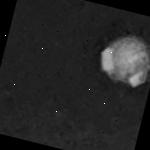colony: (90, 24, 150, 100)
